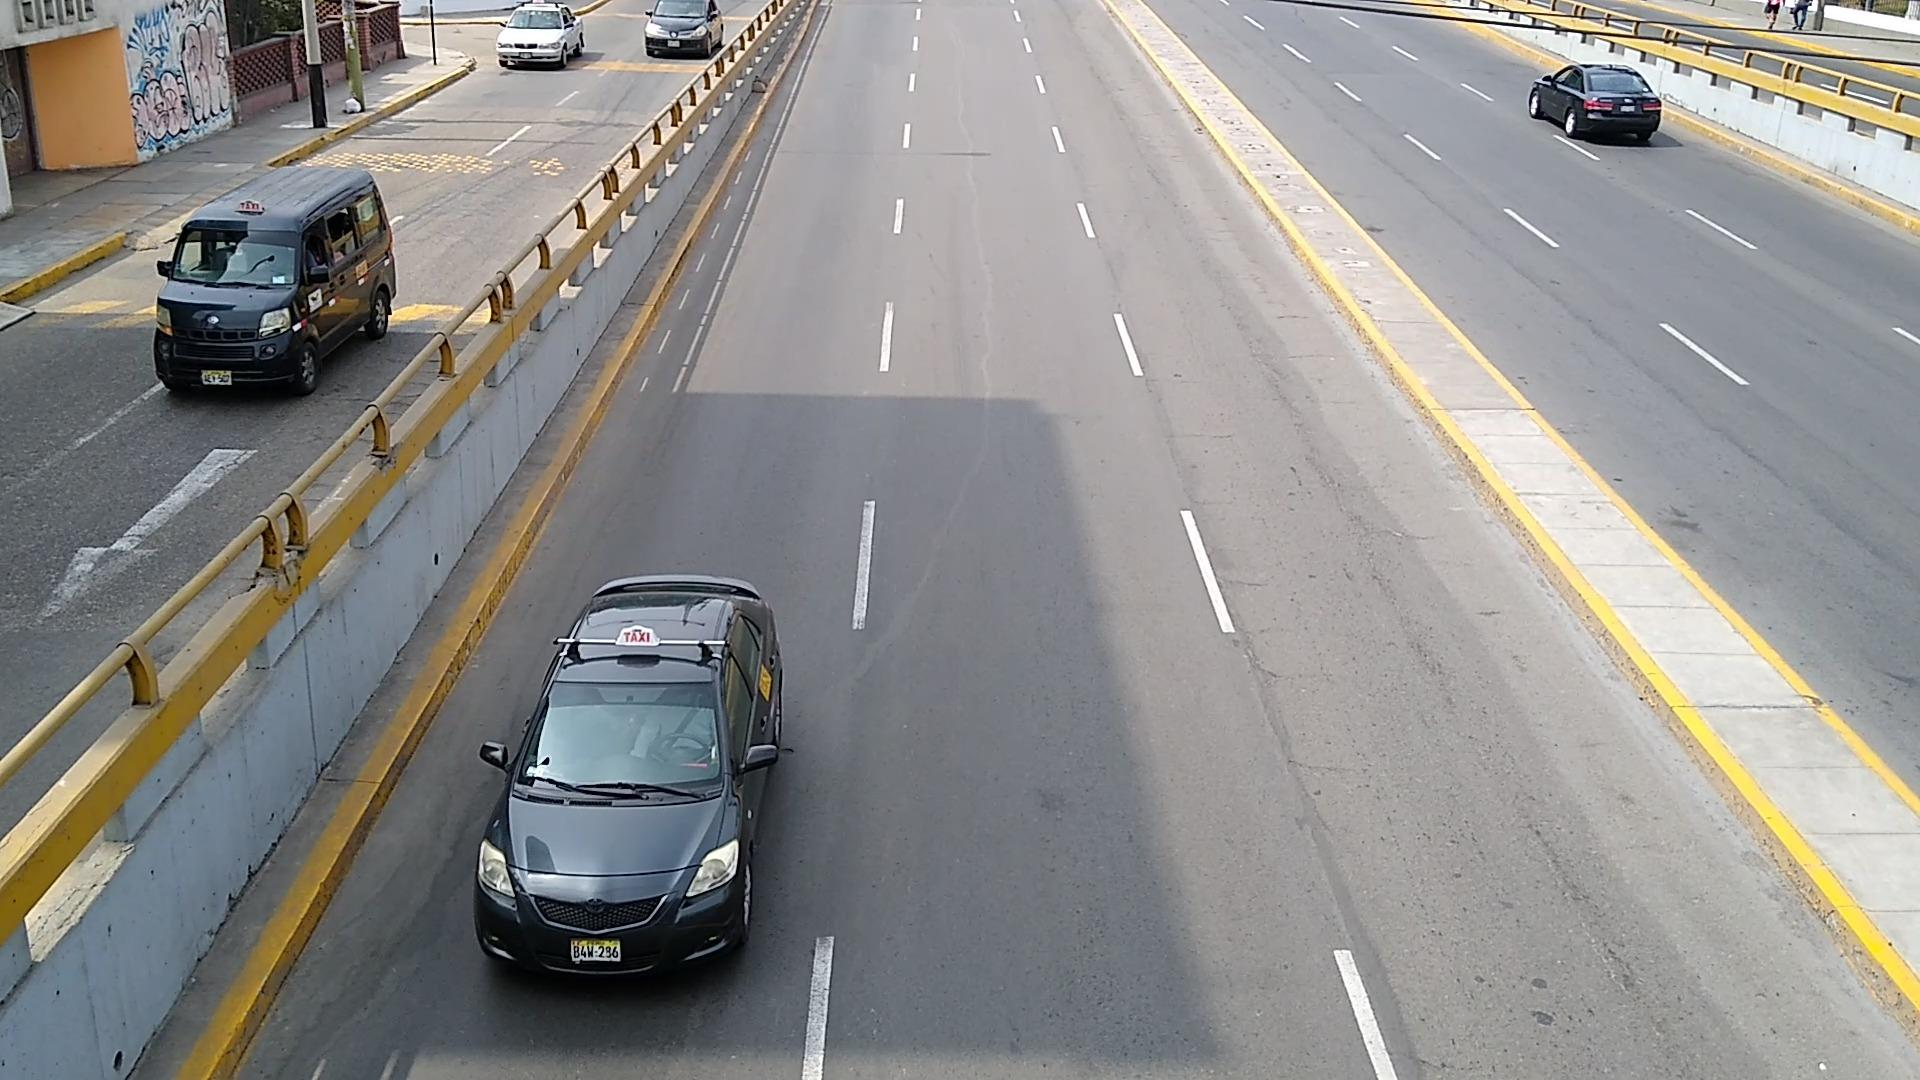car: (472, 578, 784, 975), (1530, 64, 1661, 142), (499, 0, 585, 68), (645, 0, 724, 56)
minivan: (154, 169, 398, 394)
